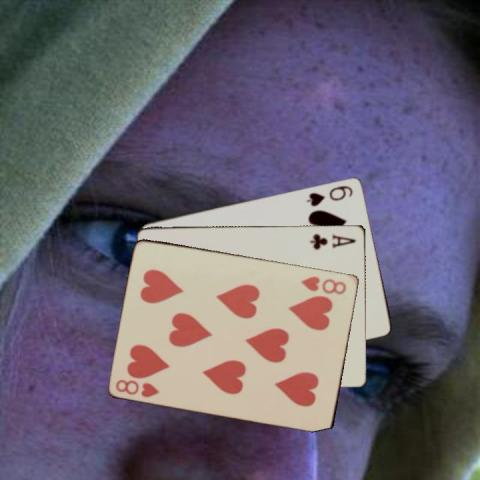6s: (303, 182, 355, 207)
8h: (298, 273, 348, 296), (113, 376, 161, 399)
Ac: (308, 230, 358, 249)
